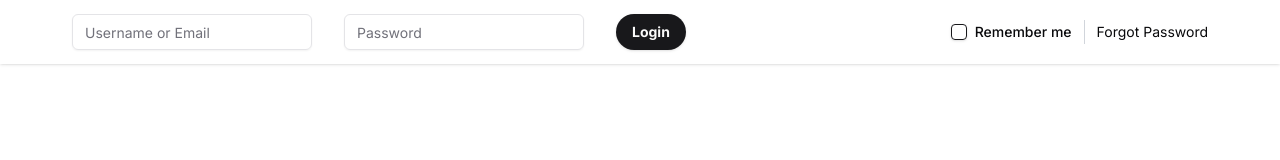
Test: LoginNavbar › should show error message for empty username
The width and height of the screenshot is (1280, 160).
Click the button "Login". click: (651, 32)
box: [616,14,686,50]
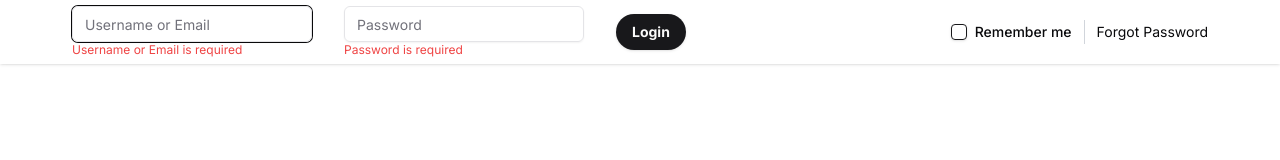
Expected: the text "Username or Email is required" is shown, [72,42,242,57]
